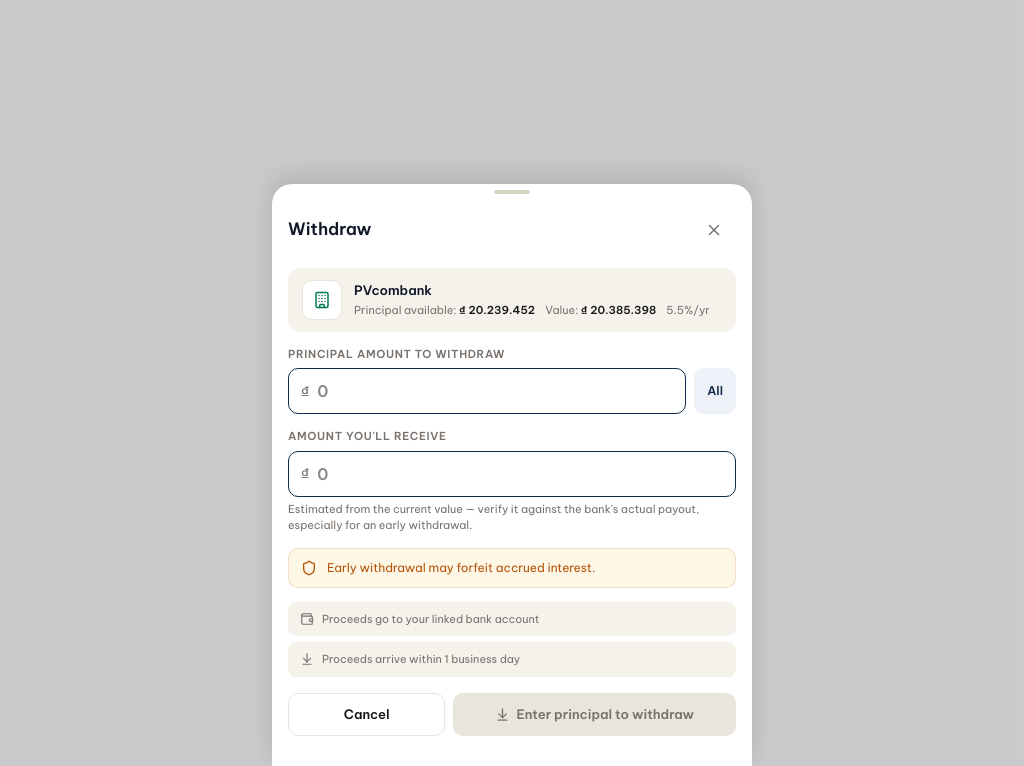
SellWithdrawSheet — partial bank withdrawal where value != principal (#578) › previews the interest the bank actually paid
Type "4365100" into the field with test id "sell-amount-input" at (495, 391), box [317,379,673,403]
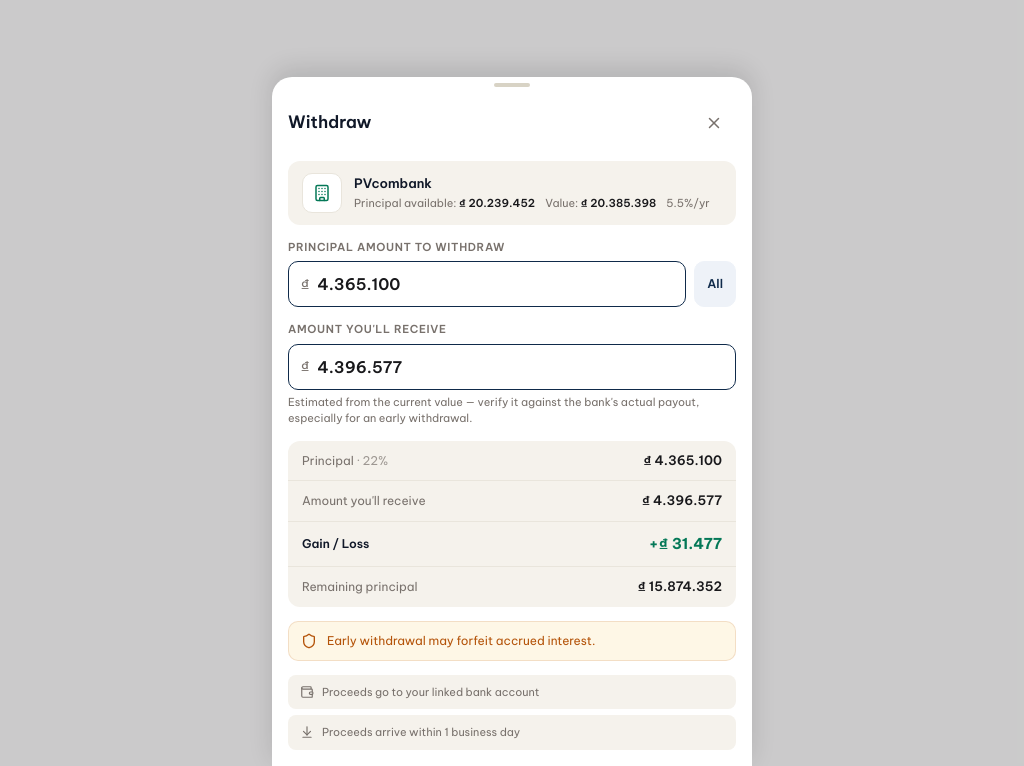
Replace the text in the field with test id "sell-received-input" with "4366416" at (520, 367), box [317,355,723,379]
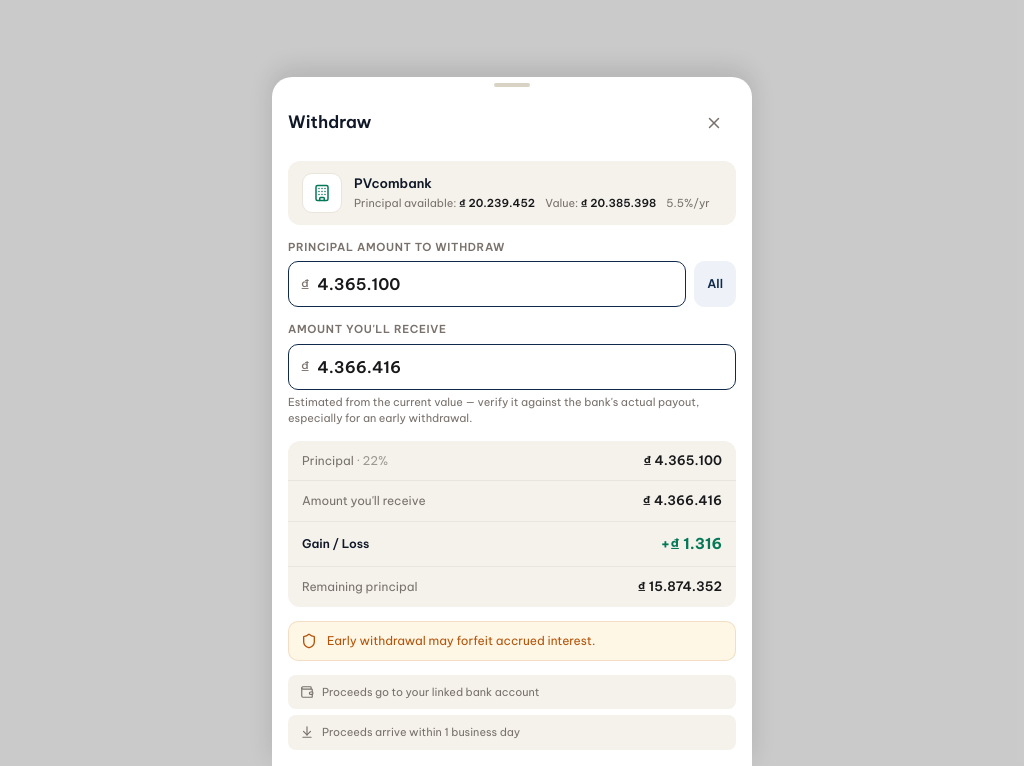
Expected: the element with test id "sell-bank-gain" shows "1.316", [670,534,722,553]
